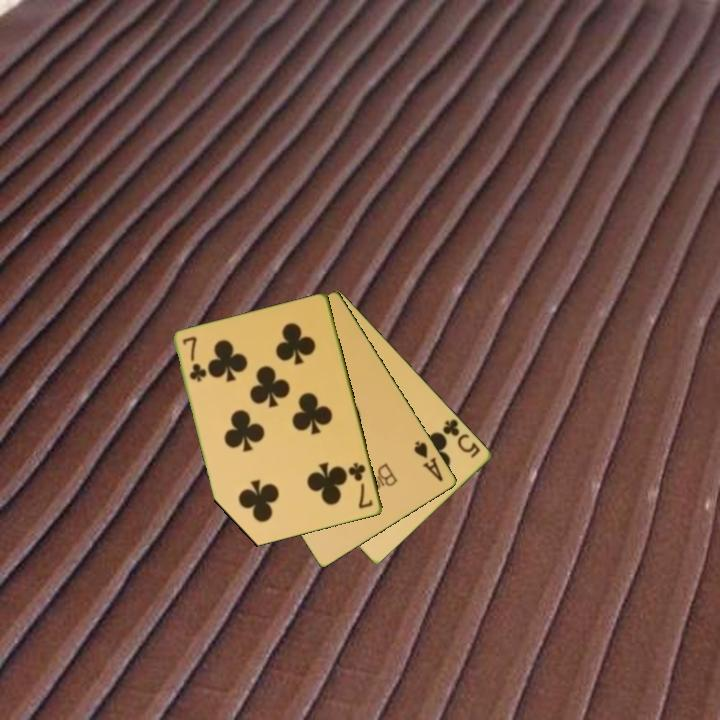5c: (438, 415, 484, 461)
7c: (345, 459, 376, 512), (179, 333, 209, 385)
As: (410, 437, 447, 484)
